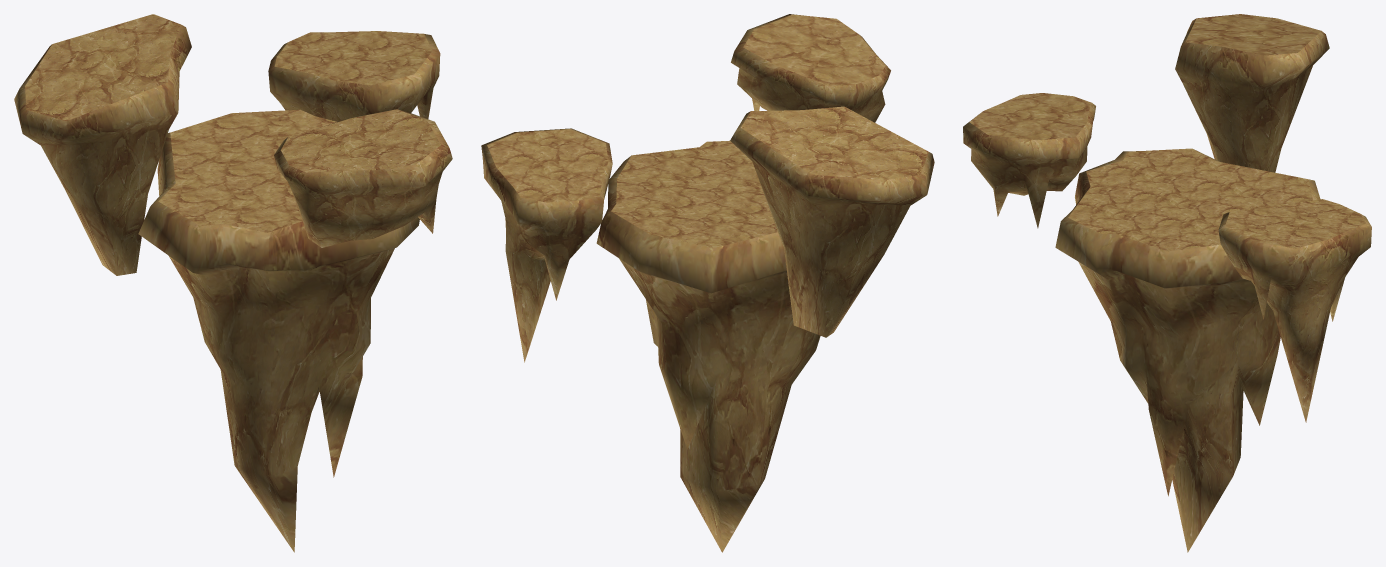
Rendered from environment_stone_dashanshi_001.FBX.
3 views of the same model, side by side, from view 1: azimuth 30°, elevation 25°; view 2: azimuth 150°, elevation 25°; view 3: azimuth 270°, elevation 25° (orthographic). The views are drawn at different scales.
Parts seen in each view (by area): view 1: environment_stone_dashanshi_001; view 2: environment_stone_dashanshi_001; view 3: environment_stone_dashanshi_001.
Part boxes in pixels (x1=…): environment_stone_dashanshi_001: x1=14, y1=14, x2=452, y2=552; environment_stone_dashanshi_001: x1=481, y1=14, x2=934, y2=552; environment_stone_dashanshi_001: x1=963, y1=14, x2=1371, y2=552.
Size of the model in its own units: 2022 by 2261 by 1799.
Materials: 1 (1 with a texture image).
